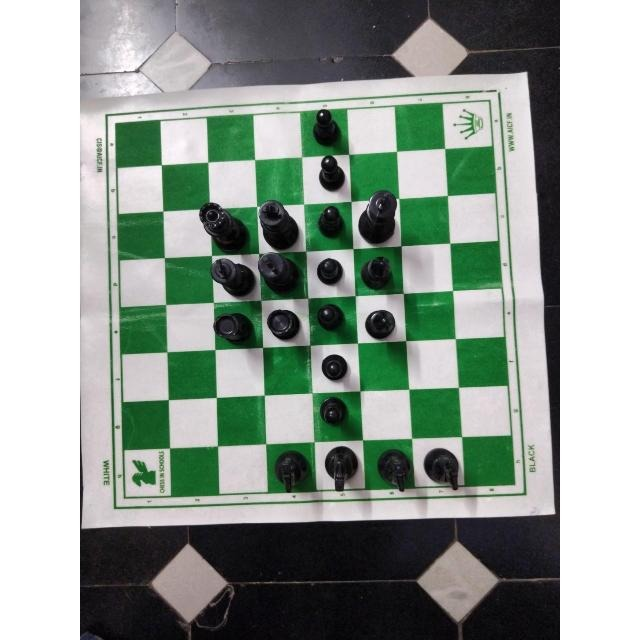black-bishop: (356, 253, 400, 294), (360, 302, 403, 342)
black-king: (357, 185, 403, 249), (255, 197, 303, 250), (208, 252, 256, 302), (258, 253, 302, 295)
black-knight: (420, 445, 463, 494), (269, 445, 310, 495), (320, 445, 358, 495), (376, 447, 412, 496)
black-pawn: (307, 102, 343, 147), (315, 349, 354, 387), (314, 154, 348, 194), (313, 206, 349, 242), (314, 394, 350, 429), (312, 299, 348, 332), (313, 257, 346, 288)
black-queen: (196, 199, 250, 248)
black-rook: (262, 304, 306, 348), (208, 310, 257, 348)
